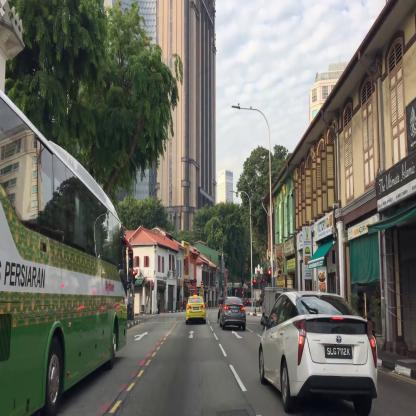red_traffic_light: (268, 269, 270, 282), (132, 270, 134, 282), (254, 278, 256, 288)
